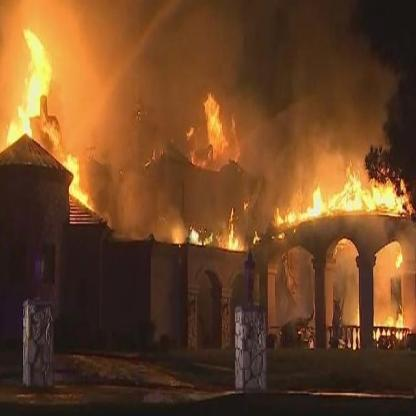fire: (1, 20, 412, 268), (328, 290, 409, 361)
